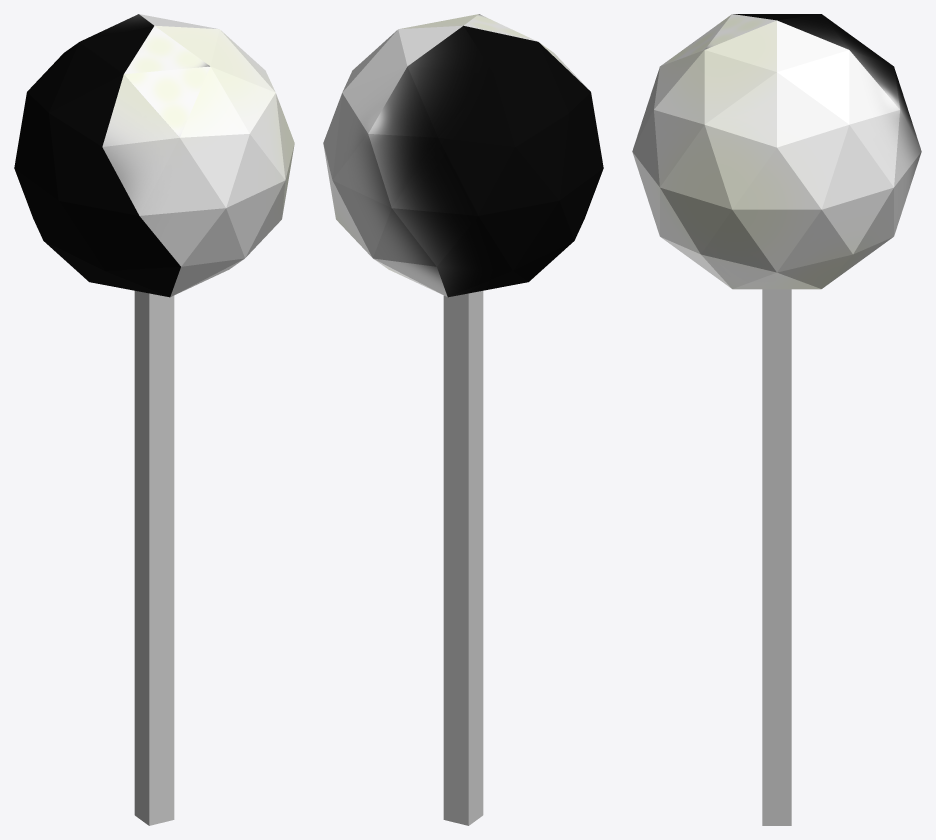
Rendered from papadie.glb.
The picture shows the model from 3 angles, left to right: view 1: azimuth 30°, elevation 25°; view 2: azimuth 150°, elevation 25°; view 3: azimuth 270°, elevation 25°; orthographic projection.
Visible parts, largest first — view 1: Icosphere, Cube; view 2: Icosphere, Cube; view 3: Icosphere, Cube.
Part boxes in pixels (left/top/right/bottom): Icosphere: left=14, top=14, right=294, bottom=297; Cube: left=134, top=291, right=174, bottom=825; Icosphere: left=323, top=14, right=603, bottom=297; Cube: left=443, top=291, right=483, bottom=825; Icosphere: left=632, top=14, right=921, bottom=289; Cube: left=762, top=289, right=791, bottom=825.
Size of the model in its own units: 1.9 by 6.09 by 2.
2 materials, 1 textured.
